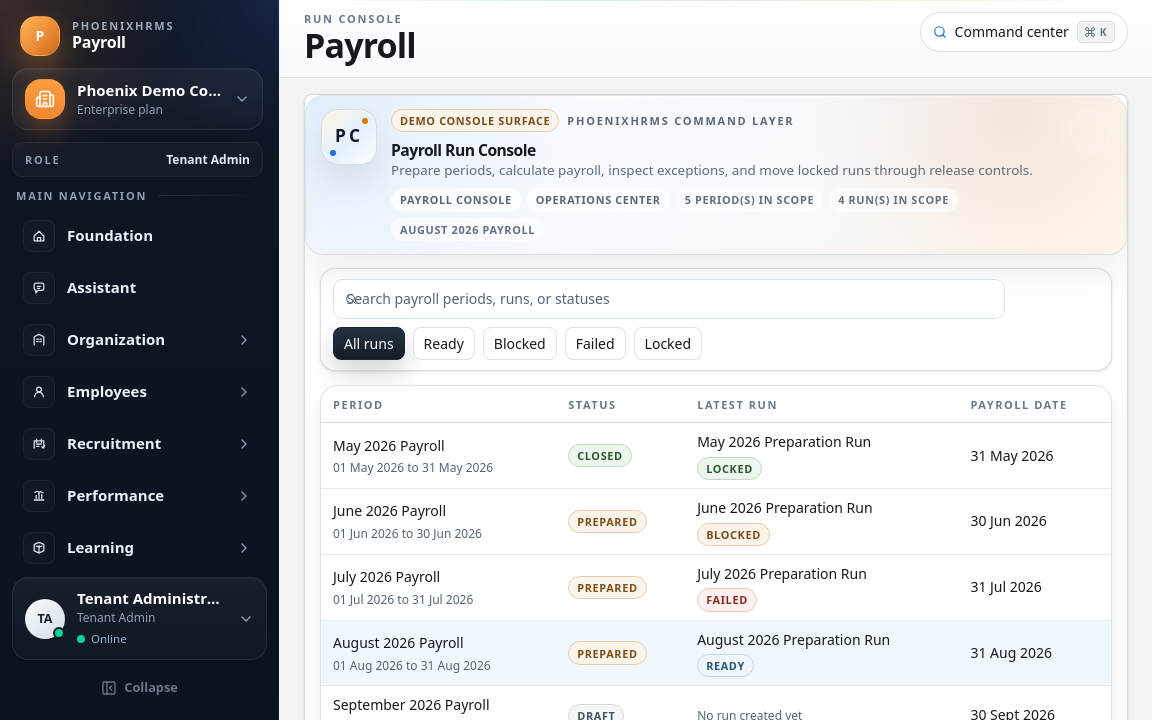
Scenario: PayrollRunConsolePage › surfaces failed-run issues and empty search state in the console
Expected: the heading "Payroll Run Console" is shown, [391, 139, 536, 161]
Click the tab "Failed" at x=595, y=344, box [565, 327, 626, 360]
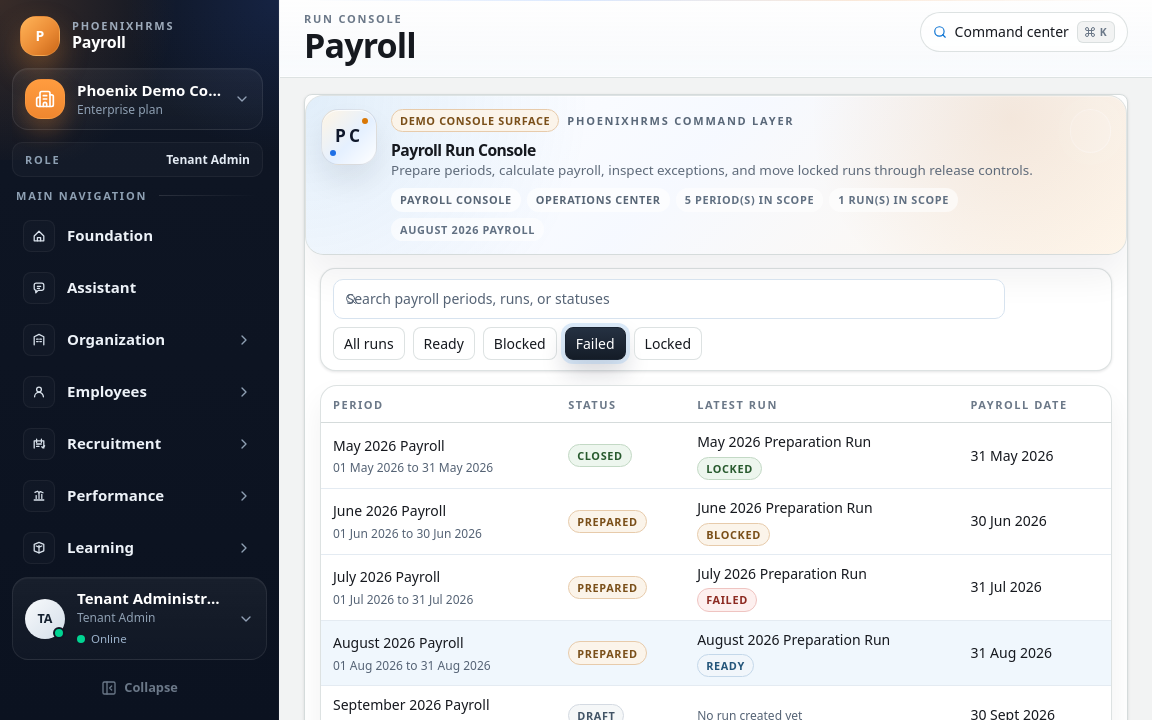
Click the text "July 2026 Payroll" at x=387, y=577, box [333, 567, 440, 586]
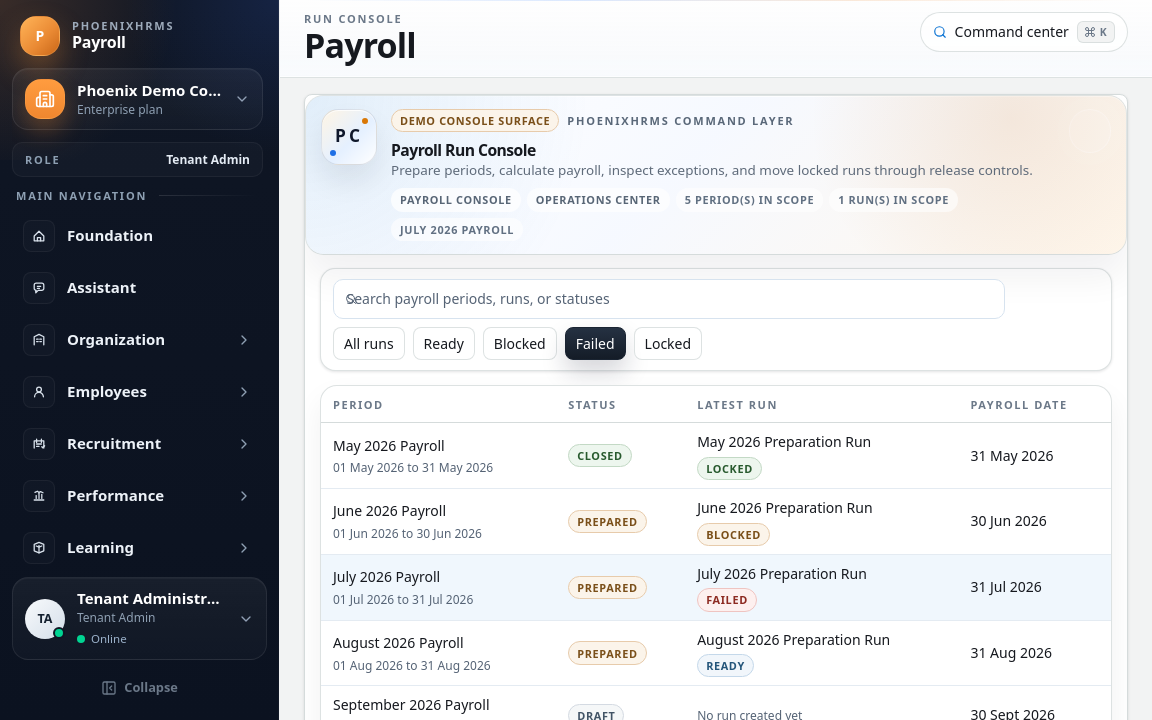
Type "zzz-no-payroll-match" into the search field with placeholder "Search payroll periods, runs, or statuses" at x=669, y=299, box [333, 279, 1005, 319]
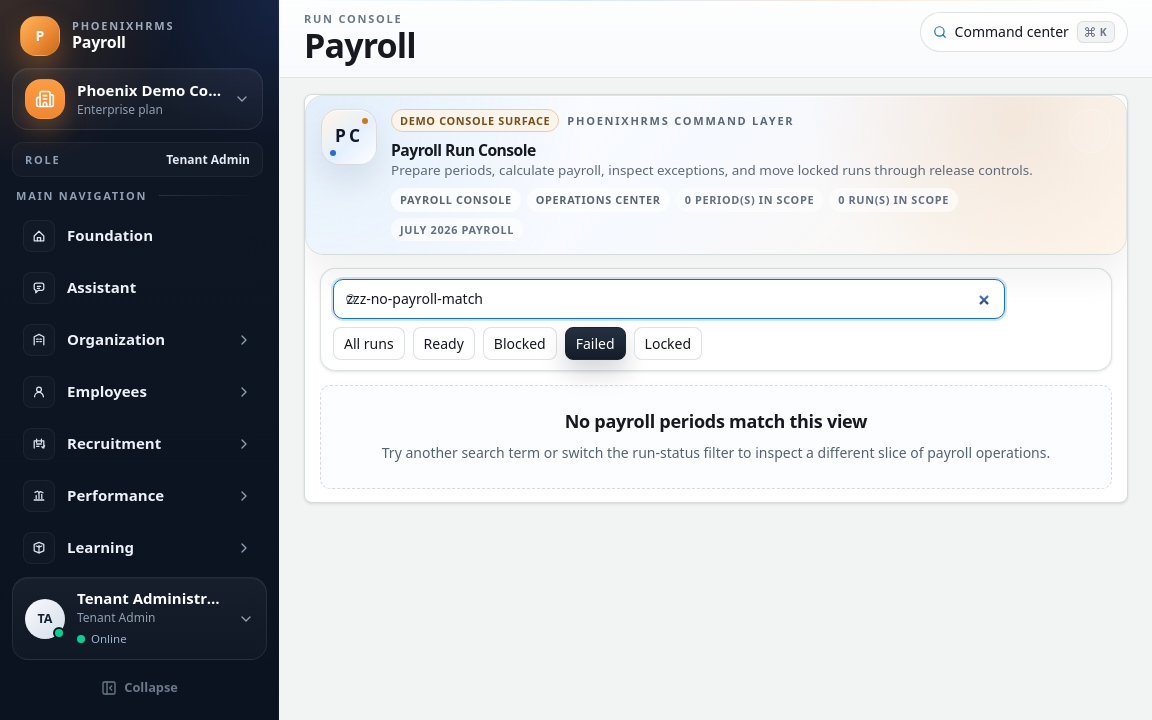
Now the heading "No payroll periods match this view" is shown, box [565, 410, 867, 434]
